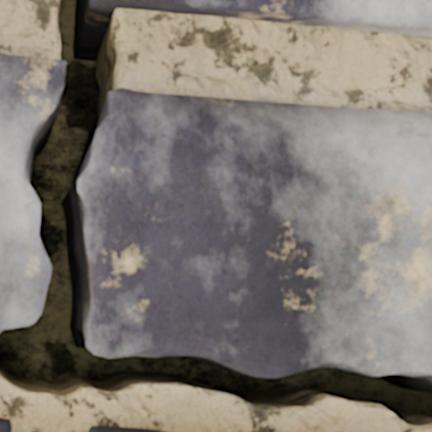brick: (91, 0, 431, 38), (89, 426, 160, 431), (0, 418, 10, 431)
broken_brick: (80, 87, 431, 376), (0, 53, 64, 329)
crack: (0, 0, 431, 429)
